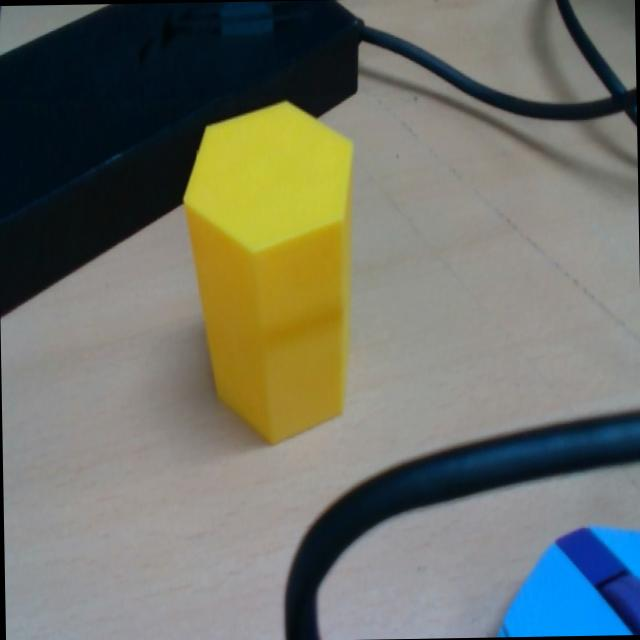hexagon: (185, 105, 351, 442)
